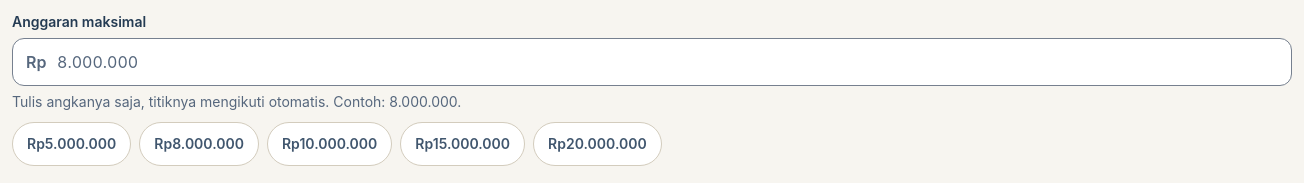
Scenario: BudgetField › drops anything that is not a digit, so the field only ever holds one format
The width and height of the screenshot is (1304, 183).
Type "8,5 jt" into the field labelled "Anggaran maksimal" at (652, 62), box [12,38,1292,86]
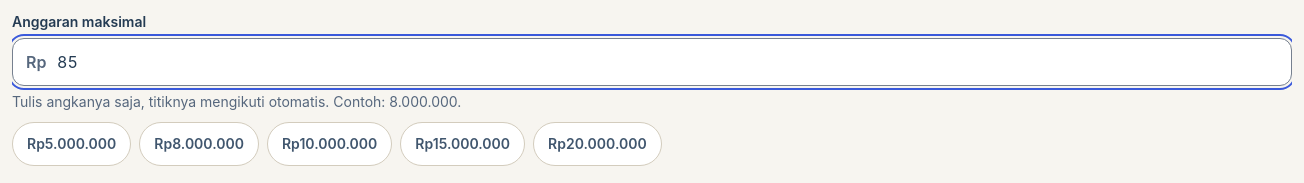
Check: the field labelled "Anggaran maksimal" holds "85", box [12,38,1292,86]
